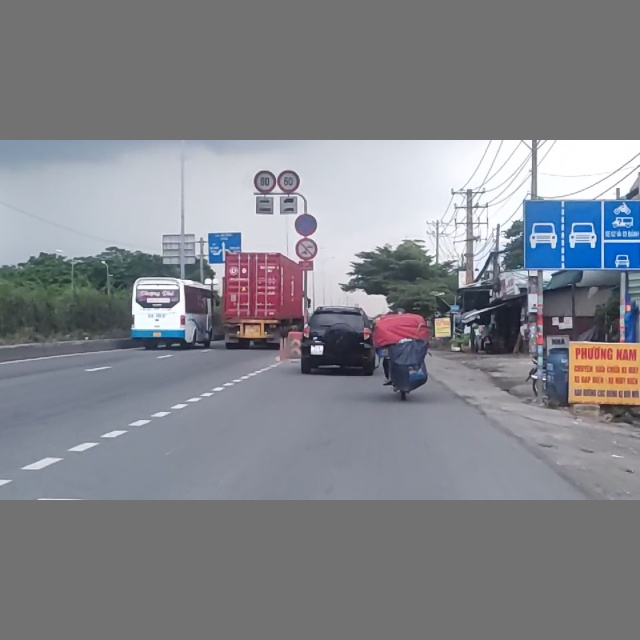P.111: (295, 238, 317, 261)
P.127*60: (278, 170, 300, 193)
P.127*80: (255, 170, 277, 193)
P.130: (294, 213, 318, 236)
R.415a: (523, 200, 640, 270)
